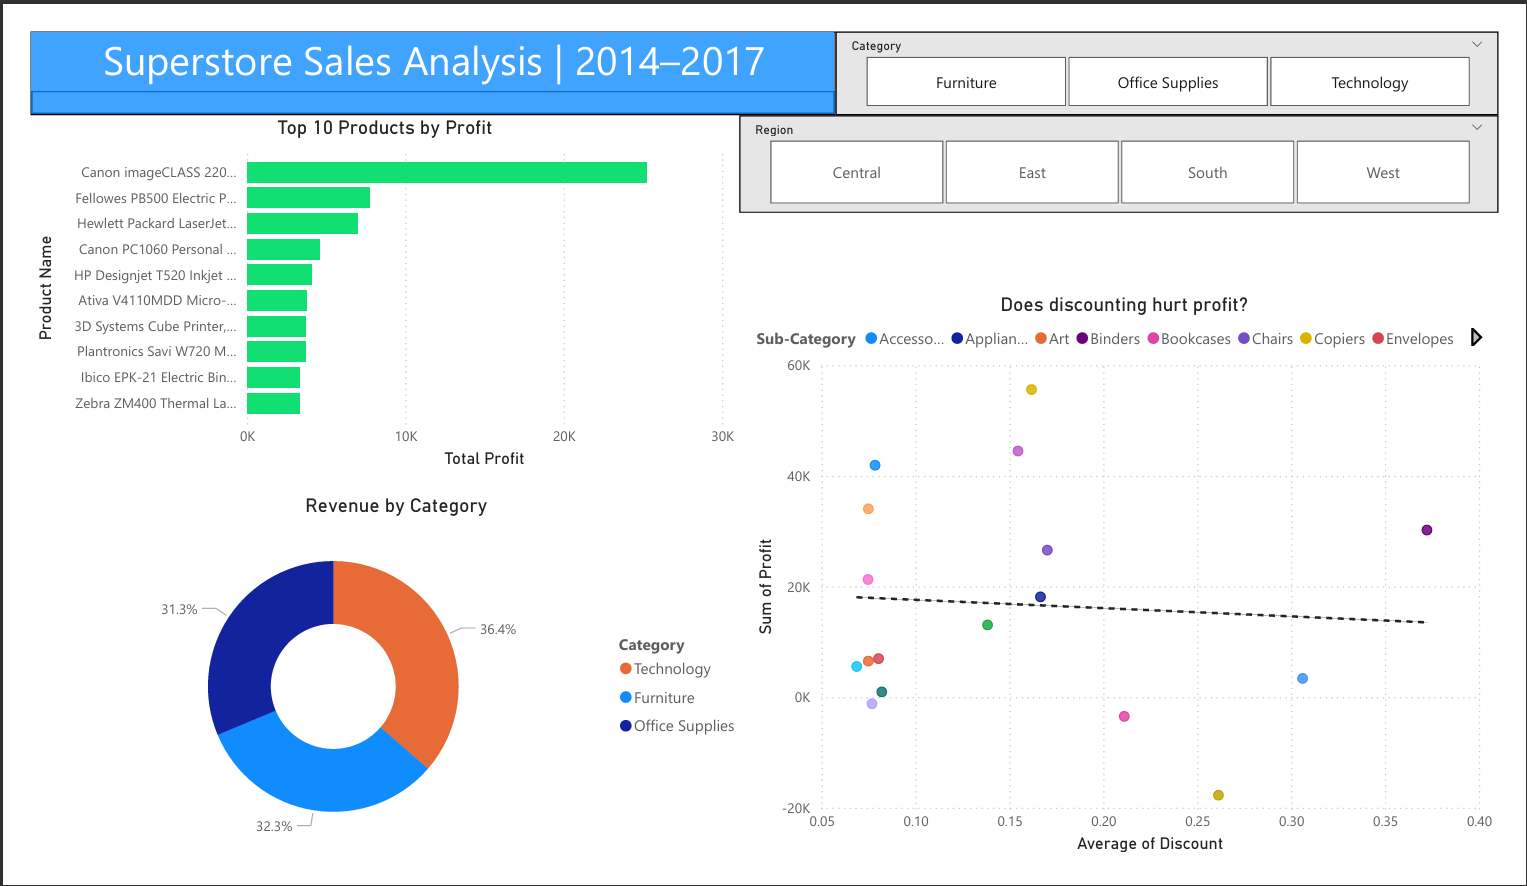

What the dashboard file says about the page in this screenshot:
{"tool":"powerbi","page":{"name":"Product Analysis","canvas":[1280,720],"ordinal":1},"visuals":[{"type":"clusteredBarChart","title":"Top 10 Products by Profit","fields":{"Category":["Orders.Product Name"],"Y":["Orders.Total Profit"]},"box":[0,73.3,618.3,311.7],"z":0},{"type":"donutChart","title":"Revenue by Category","fields":{"Category":["Orders.Category"],"Y":["Orders.Total Revenue"]},"box":[10,403.3,618.3,316.7],"z":1000},{"type":"scatterChart","title":"Does discounting hurt profit?","fields":{"X":["Avg(Orders.Discount)"],"Y":["Sum(Orders.Profit)"],"Series":["Orders.Sub-Category"]},"box":[628.3,228.3,651.7,491.7],"z":2000},{"type":"slicer","fields":{"Values":["Orders.Region"]},"box":[618.3,73.3,661.7,85],"z":3000},{"type":"slicer","fields":{"Values":["Orders.Category"]},"box":[701.7,0,578.3,73.3],"z":4000},{"type":"shape","title":"Superstore Sales Analysis | 2014–2017    ","box":[0,0,701.7,73.3],"z":4001}]}

Visuals, with their boxes on the page's 1280x720 design canvas (x1, y1, x2, y2). These are canvas units, not pixel positions in the 1527x886 screenshot, which may show the page scaled, cropped or inside an application window:
"Top 10 Products by Profit" clusteredBarChart: <region>0, 73, 618, 385</region>
"Revenue by Category" donutChart: <region>10, 403, 628, 720</region>
"Does discounting hurt profit?" scatterChart: <region>628, 228, 1280, 720</region>
slicer - Orders.Region: <region>618, 73, 1280, 158</region>
slicer - Orders.Category: <region>702, 0, 1280, 73</region>
"Superstore Sales Analysis | 2014–2017    " shape: <region>0, 0, 702, 73</region>
